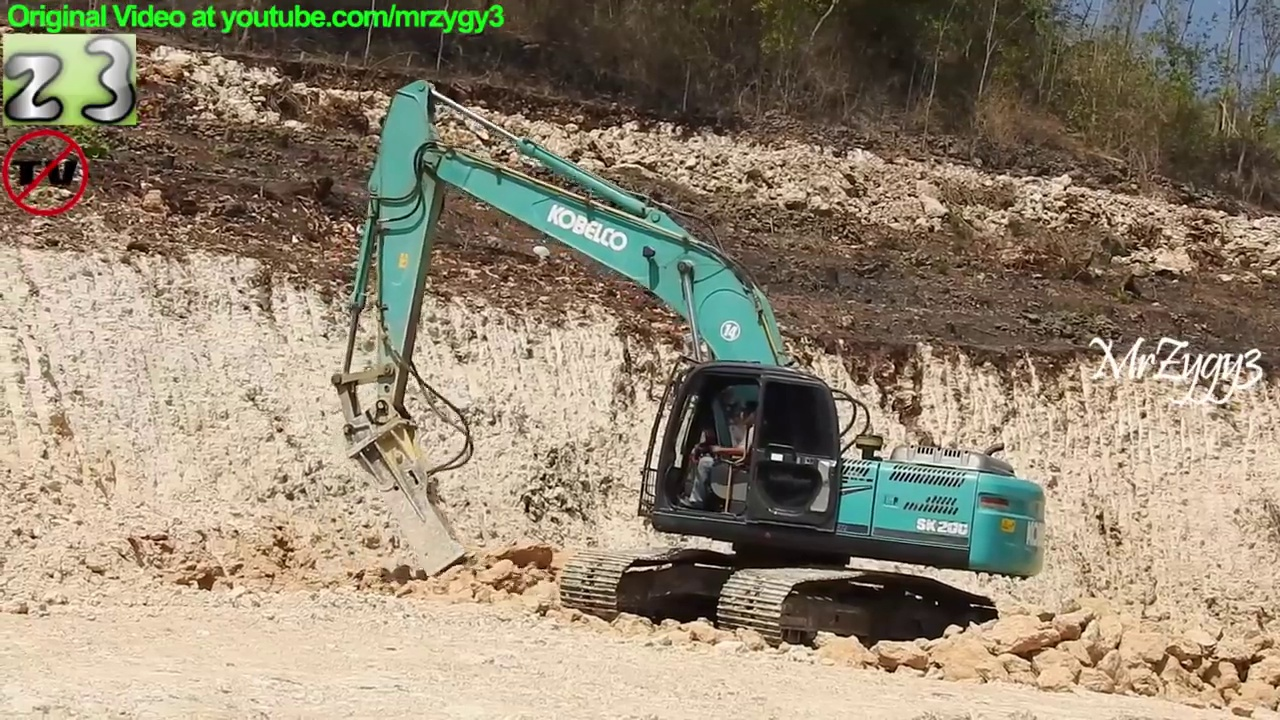excavator breaker: (320, 72, 1057, 672)
